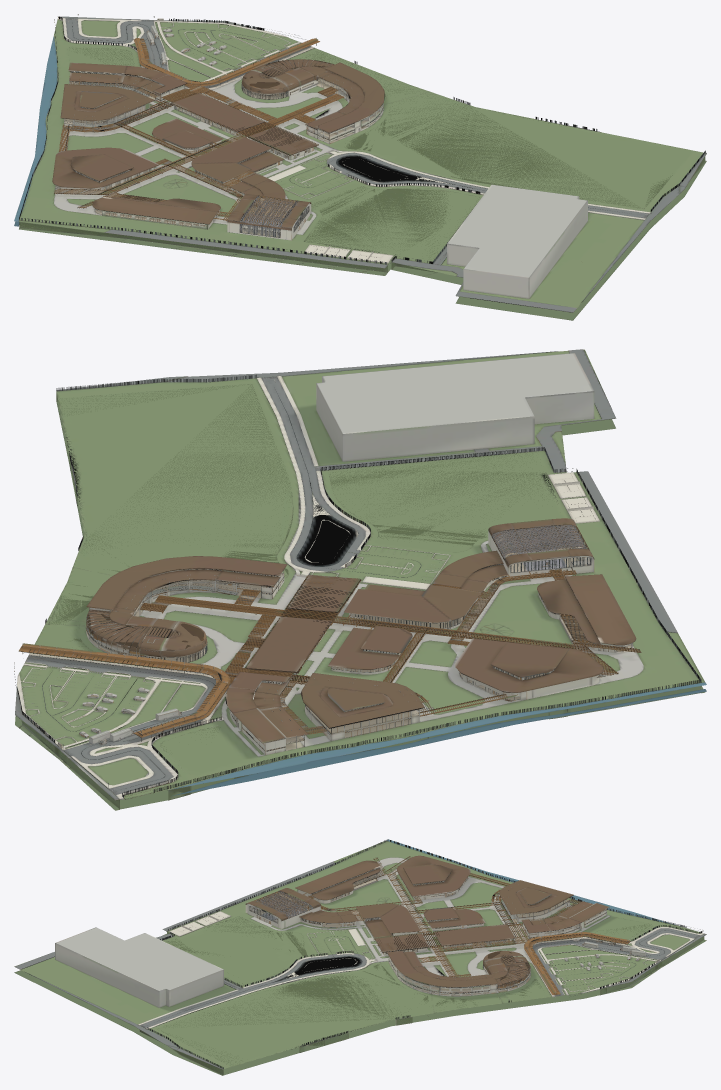
Rendered from Net-Zero-School-light.glb.
3 renders of one model, top to bottom at view 1: azimuth 30°, elevation 25°; view 2: azimuth 150°, elevation 25°; view 3: azimuth 270°, elevation 25°, orthographic. The views are drawn at different scales.
Parts seen in each view (by area): view 1: bakegroup_site, bakegroup_canopies, bakegroup_gym, bakegroup_auditorium, bakegroup_highschool, bakegroup_library, bakegroup_middle, bakegroup_elementary, bakegroup_cafeteria, bakegroup_science, bakegroup_admin, bakegroup_art (+1 smaller); view 2: bakegroup_site, bakegroup_canopies, bakegroup_gym, bakegroup_highschool, bakegroup_auditorium, bakegroup_library, bakegroup_science, bakegroup_elementary, bakegroup_middle, bakegroup_cafeteria, bakegroup_admin, bakegroup_art (+1 smaller); view 3: bakegroup_site, bakegroup_canopies, bakegroup_gym, bakegroup_highschool, bakegroup_auditorium, bakegroup_library, bakegroup_middle, bakegroup_elementary, bakegroup_cafeteria, bakegroup_science, bakegroup_admin, bakegroup_art (+1 smaller).
Part boxes in pixels (left/top/right/bottom): bakegroup_site: left=14, top=14, right=706, bottom=320; bakegroup_canopies: left=60, top=37, right=357, bottom=221; bakegroup_gym: left=216, top=172, right=311, bottom=247; bakegroup_auditorium: left=52, top=147, right=158, bottom=194; bakegroup_highschool: left=305, top=62, right=385, bottom=144; bakegroup_library: left=60, top=84, right=168, bottom=130; bakegroup_middle: left=81, top=193, right=220, bottom=229; bakegroup_elementary: left=68, top=62, right=187, bottom=102; bakegroup_cafeteria: left=191, top=137, right=284, bottom=187; bakegroup_science: left=241, top=59, right=334, bottom=99; bakegroup_admin: left=162, top=90, right=316, bottom=155; bakegroup_art: left=152, top=118, right=223, bottom=154; bakegroup_site: left=14, top=349, right=706, bottom=810; bakegroup_canopies: left=18, top=567, right=576, bottom=748; bakegroup_gym: left=432, top=518, right=620, bottom=599; bakegroup_highschool: left=86, top=556, right=287, bottom=616; bakegroup_auditorium: left=455, top=638, right=607, bottom=701; bakegroup_library: left=289, top=673, right=424, bottom=741; bakegroup_science: left=86, top=607, right=207, bottom=662; bakegroup_elementary: left=225, top=671, right=327, bottom=755; bakegroup_middle: left=537, top=574, right=640, bottom=652; bakegroup_cafeteria: left=344, top=584, right=481, bottom=630; bakegroup_admin: left=245, top=576, right=357, bottom=680; bakegroup_art: left=328, top=626, right=412, bottom=674; bakegroup_site: left=14, top=839, right=706, bottom=1075; bakegroup_canopies: left=299, top=873, right=630, bottom=997; bakegroup_gym: left=245, top=888, right=360, bottom=929; bakegroup_highschool: left=387, top=951, right=498, bottom=996; bakegroup_auditorium: left=388, top=855, right=473, bottom=900; bakegroup_library: left=496, top=880, right=573, bottom=926; bakegroup_middle: left=295, top=858, right=384, bottom=903; bakegroup_elementary: left=521, top=899, right=609, bottom=939; bakegroup_cafeteria: left=356, top=904, right=420, bottom=940; bakegroup_science: left=483, top=951, right=530, bottom=992; bakegroup_admin: left=373, top=924, right=528, bottom=951; bakegroup_art: left=423, top=907, right=485, bottom=931.
Bounding box in the file's own units: 378 × 17.26 × 481.
Materials: 1 (1 with a texture image).
